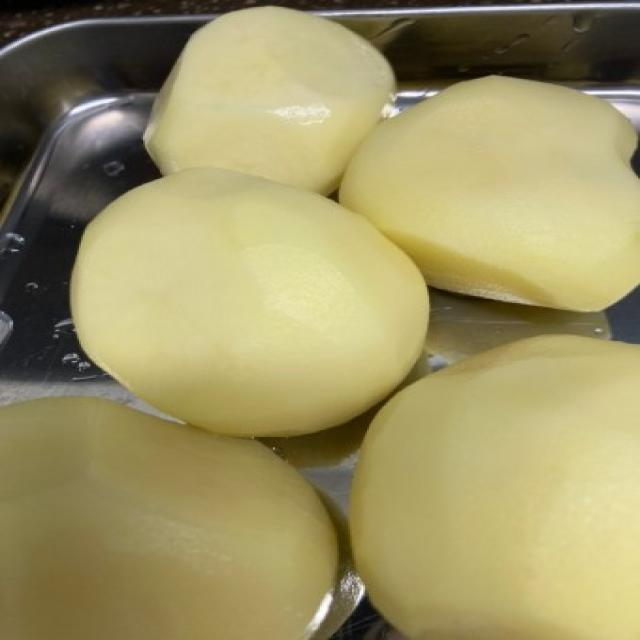potato: (67, 167, 438, 443), (354, 328, 638, 640), (3, 390, 350, 640), (333, 73, 640, 312), (149, 0, 403, 202)
